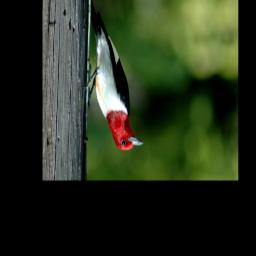Woodpecker: (80, 0, 145, 151)
